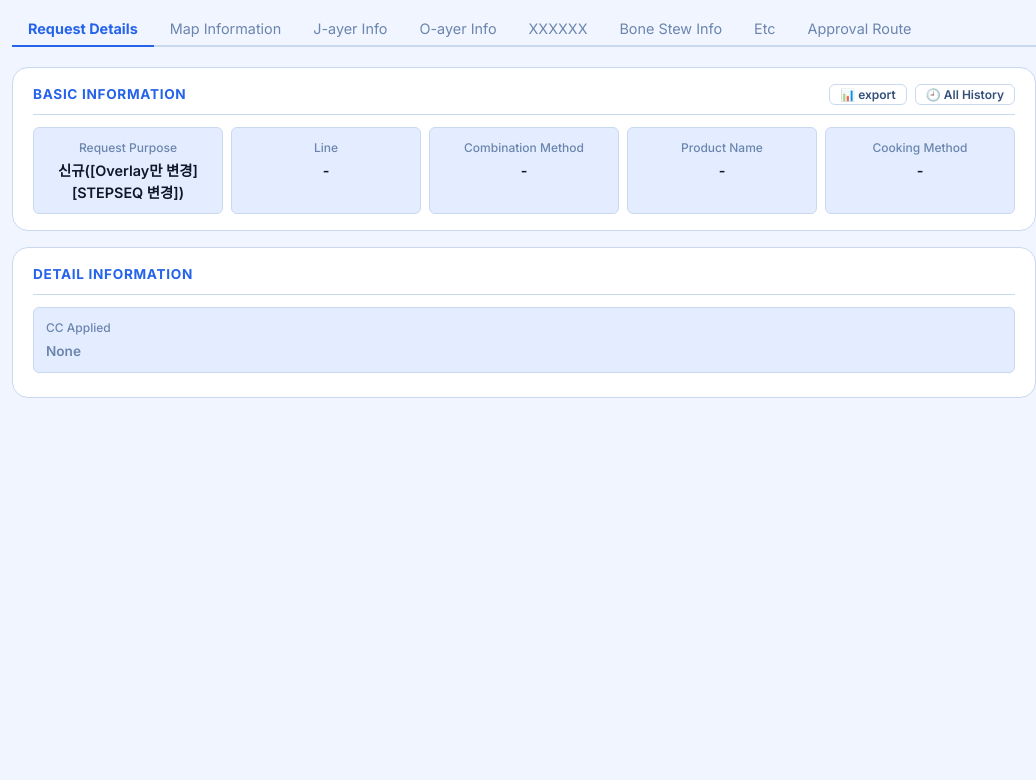
Test case: 결재 경로 탭 — 'Overlay만 변경' 단독 문서의 R 행 › 다른 목적과 함께 고른 문서(일반 경로)는 PL 단계에서 R 행이 대기중이다
This screenshot has width=1036, height=780.
Click the button "Approval Route".
click(859, 30)  # box x1=792 y1=12 x2=927 y2=47
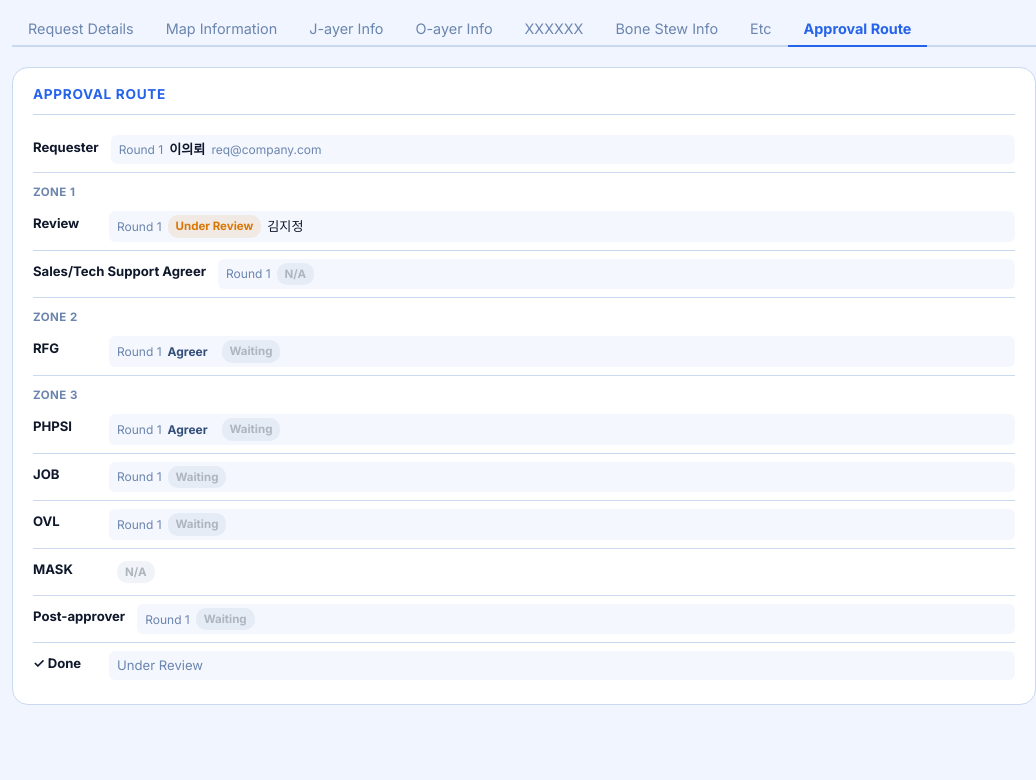
Expected: the text "Waiting" in the row of "RFG" is shown, x1=230 y1=344 x2=272 y2=358
